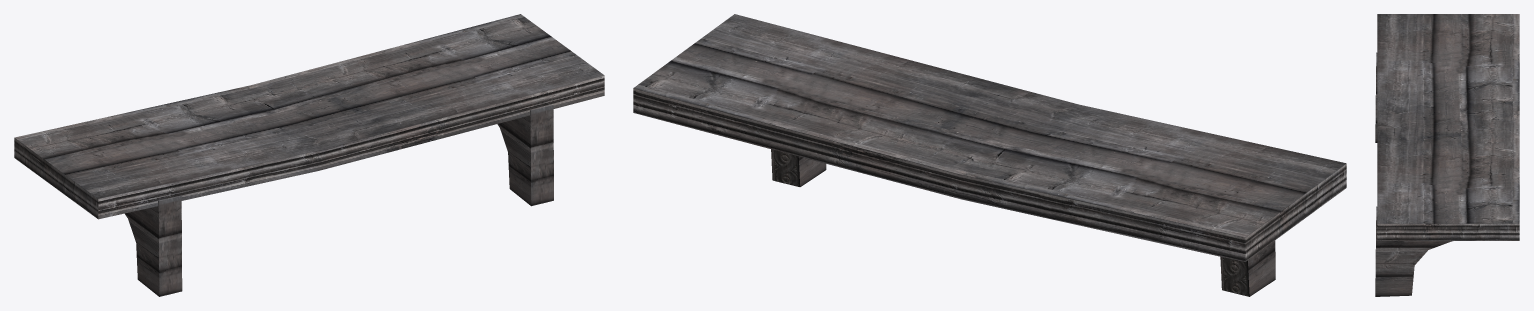
Rendered from tavern_shl3.dae.
The picture shows the model from 3 angles, left to right: view 1: azimuth 30°, elevation 25°; view 2: azimuth 150°, elevation 25°; view 3: azimuth 270°, elevation 25°; orthographic projection. The views are drawn at different scales.
Parts seen in each view (by area): view 1: Default_Layer; view 2: Default_Layer; view 3: Default_Layer.
Part boxes in pixels (x1,y1,x2,y2): Default_Layer: (14,14,604,296); Default_Layer: (633,14,1346,296); Default_Layer: (1375,14,1519,296).
Size of the model in its own units: 4.18 by 0.8811 by 1.21.
